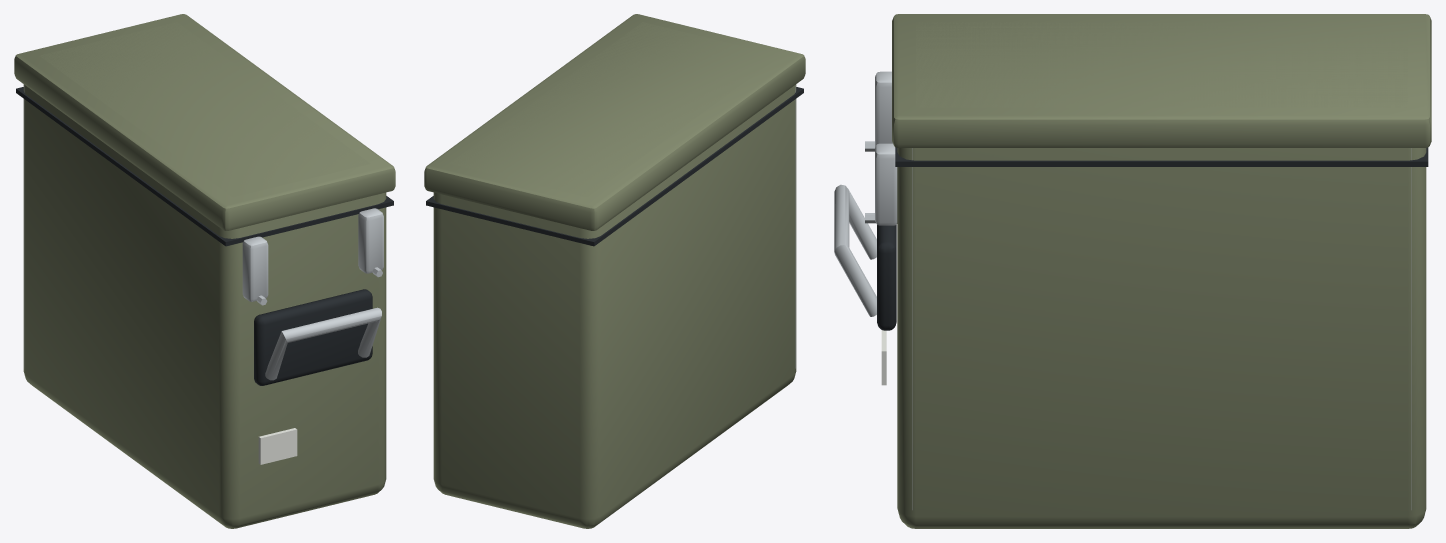
Rendered from ob_olive_case_g5.glb.
The picture shows the model from 3 angles, left to right: view 1: azimuth 30°, elevation 25°; view 2: azimuth 150°, elevation 25°; view 3: azimuth 270°, elevation 25°; orthographic projection. The views are drawn at different scales.
Visible parts, largest first — view 1: ob_olive_case_g5; view 2: ob_olive_case_g5; view 3: ob_olive_case_g5.
Boxes of the visible parts, x1=… form: ob_olive_case_g5: x1=14, y1=14, x2=395, y2=528; ob_olive_case_g5: x1=424, y1=14, x2=805, y2=528; ob_olive_case_g5: x1=834, y1=14, x2=1431, y2=528.
Bounding box in the file's own units: 0.17 × 0.31 × 0.4.
